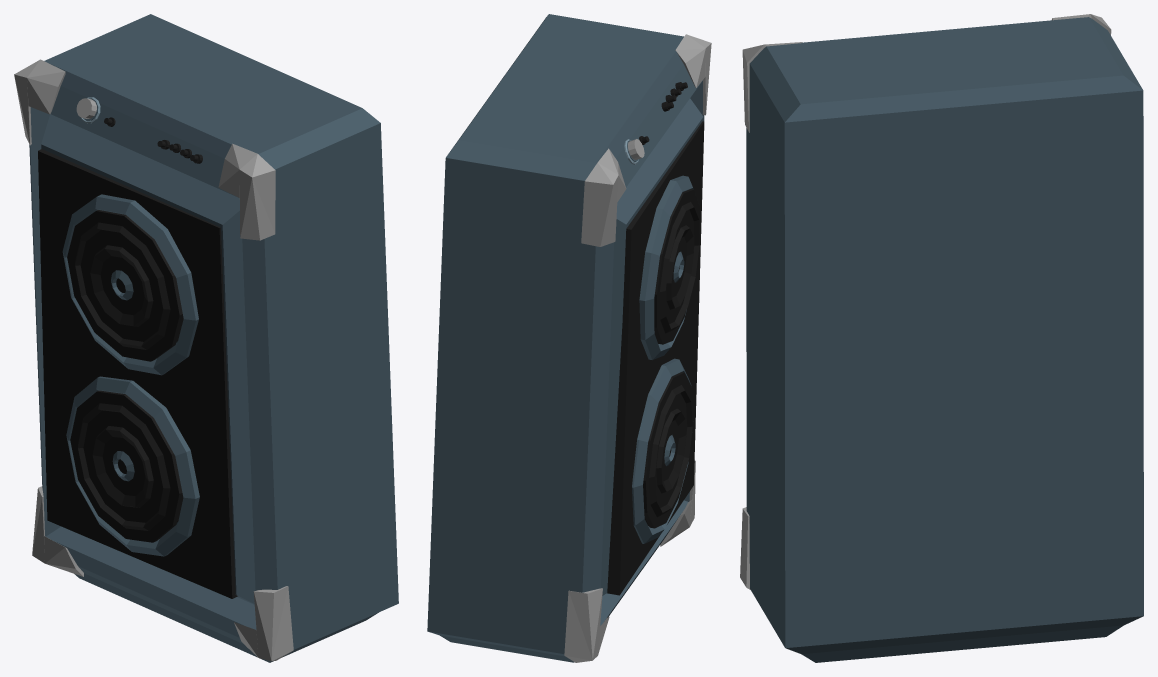
Rendered from Speaker-7EmeFe3O7GQ.glb.
3 renders of one model, left to right at view 1: azimuth 30°, elevation 25°; view 2: azimuth 150°, elevation 25°; view 3: azimuth 270°, elevation 25°, orthographic. The views are drawn at different scales.
Parts seen in each view (by area): view 1: group437030597; view 2: group437030597; view 3: group437030597.
Part boxes in pixels (left/top/right/bottom): group437030597: left=14, top=14, right=398, bottom=662; group437030597: left=427, top=14, right=711, bottom=662; group437030597: left=740, top=14, right=1143, bottom=662.
Bounding box in the file's own units: 0.2004 × 0.4274 × 0.2793.
